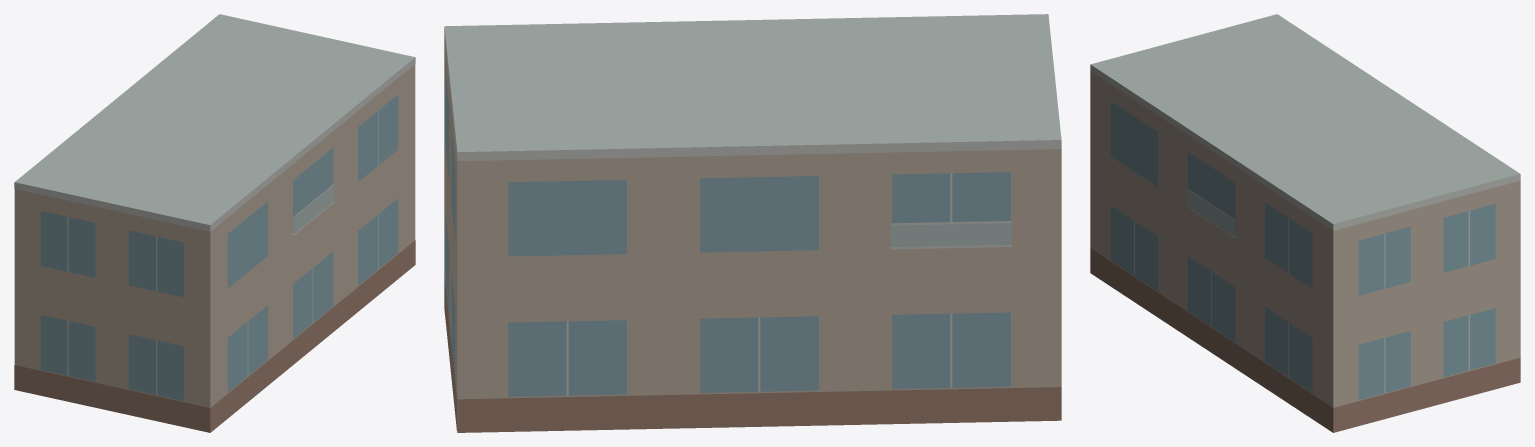
Rendered from survey-upis-32621824.glb.
3 renders of one model, left to right at view 1: azimuth 30°, elevation 25°; view 2: azimuth 150°, elevation 25°; view 3: azimuth 270°, elevation 25°, orthographic. The views are drawn at different scales.
Parts seen in each view (by area): view 1: survey-upis-32621824.tmp; view 2: survey-upis-32621824.tmp; view 3: survey-upis-32621824.tmp.
Part boxes in pixels (left/top/right/bottom): survey-upis-32621824.tmp: left=14, top=14, right=415, bottom=432; survey-upis-32621824.tmp: left=444, top=14, right=1061, bottom=432; survey-upis-32621824.tmp: left=1090, top=14, right=1520, bottom=432.
Bounding box in the file's own units: 16.43 × 7.6 × 14.21.
